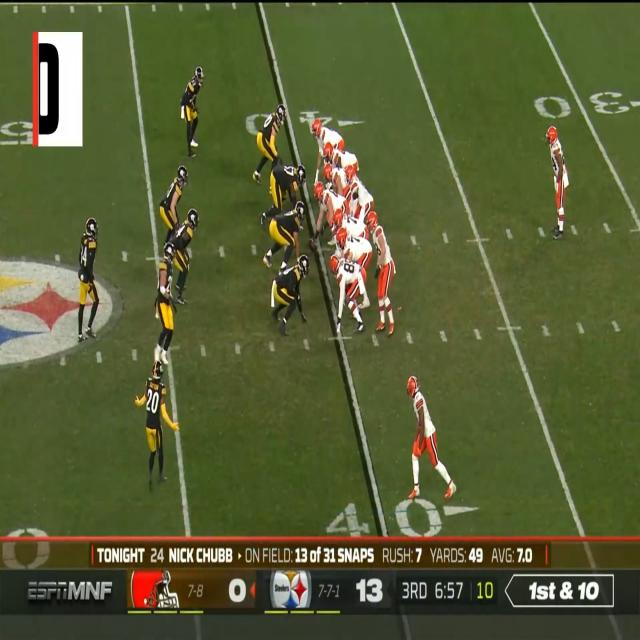football: (311, 236, 320, 252)
players: (405, 376, 457, 500), (134, 362, 179, 492), (368, 216, 400, 344), (155, 242, 180, 373), (76, 219, 102, 343), (330, 256, 368, 339), (274, 255, 312, 337), (168, 212, 201, 302), (263, 206, 305, 274), (253, 104, 287, 188), (158, 166, 190, 255), (546, 122, 570, 240), (180, 66, 208, 166), (262, 162, 306, 225), (314, 182, 348, 248), (342, 232, 375, 297), (310, 121, 344, 174), (334, 206, 368, 255), (347, 172, 377, 225), (324, 143, 358, 180), (324, 164, 351, 204)
